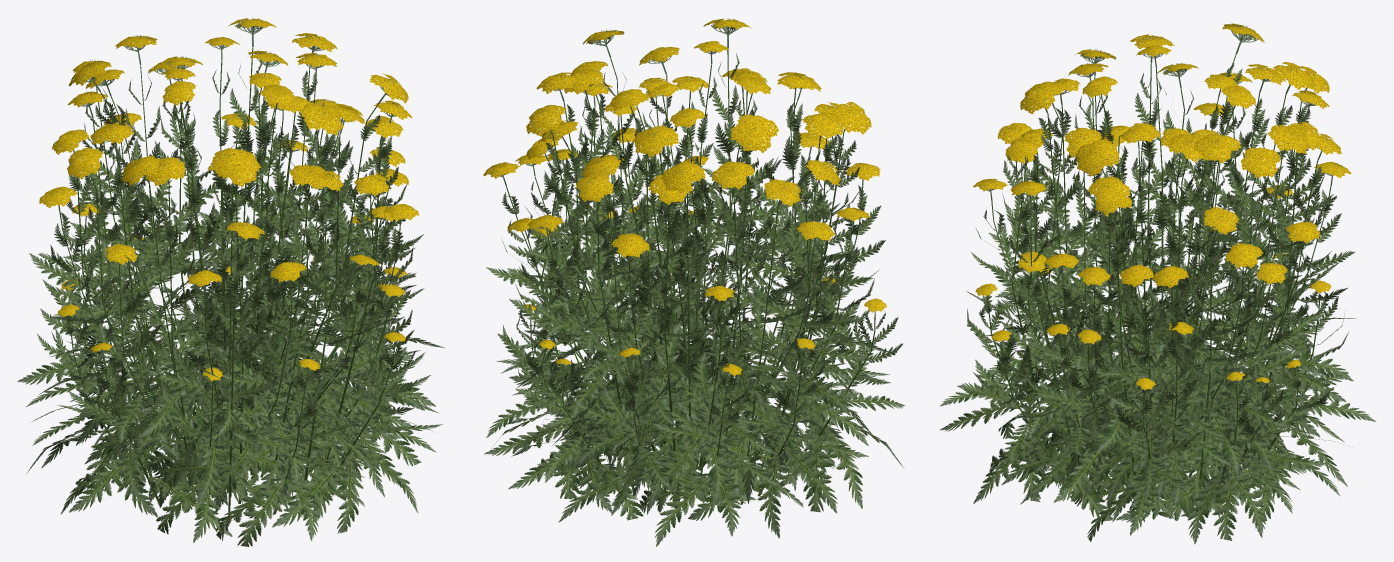
File: ACG Coronation Gold Yarrow.glb
The picture shows the model from 3 angles, left to right: view 1: azimuth 30°, elevation 25°; view 2: azimuth 150°, elevation 25°; view 3: azimuth 270°, elevation 25°; orthographic projection.
Visible parts, largest first — view 1: ACG_Coronation_Gold_Yarrow.001; view 2: ACG_Coronation_Gold_Yarrow.001; view 3: ACG_Coronation_Gold_Yarrow.001.
Part boxes in pixels (box(x1,y1,x2,y2)): ACG_Coronation_Gold_Yarrow.001: box(17, 17, 444, 546); ACG_Coronation_Gold_Yarrow.001: box(483, 18, 904, 546); ACG_Coronation_Gold_Yarrow.001: box(939, 23, 1375, 544).
Size of the model in its own units: 0.9461 by 0.975 by 0.9615.
Materials: 2 (2 with a texture image).
